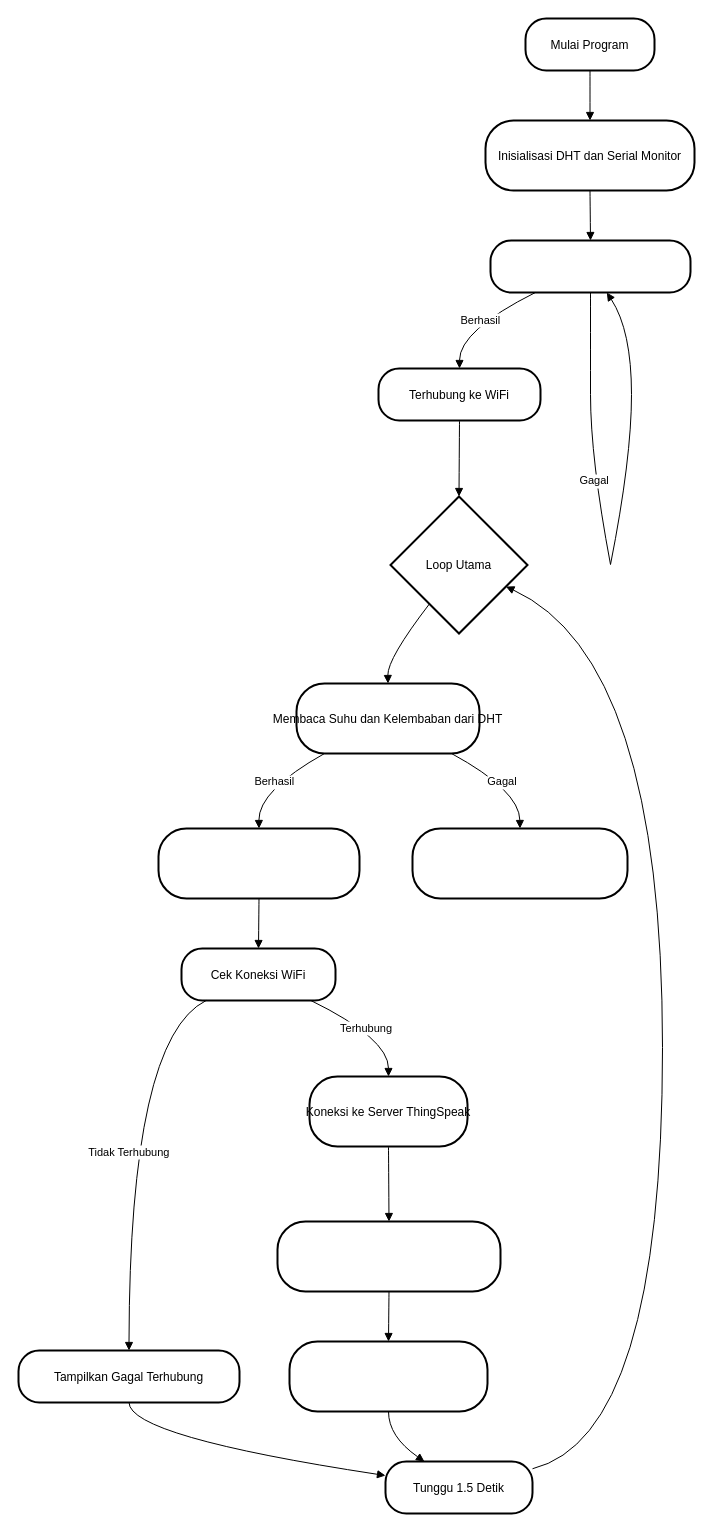
The diagram is 712 pixels wide and 1531 high, and some of its shapes have lost their labels. The shapes that lost their labels are listed below. From the top down, each one's centre as x and y in pixels, then its label:
At [590,266]: "Menghubungkan ke WiFi".
At [258,863]: "Tampilkan Data di Serial Monitor".
At [519,863]: "Tampilkan Gagal Membaca Data".
At [388,1256]: "Konversi Data dan Kirim ke ThingSpeak".
At [388,1376]: "Tampilkan Data Berhasil Dikirim".
